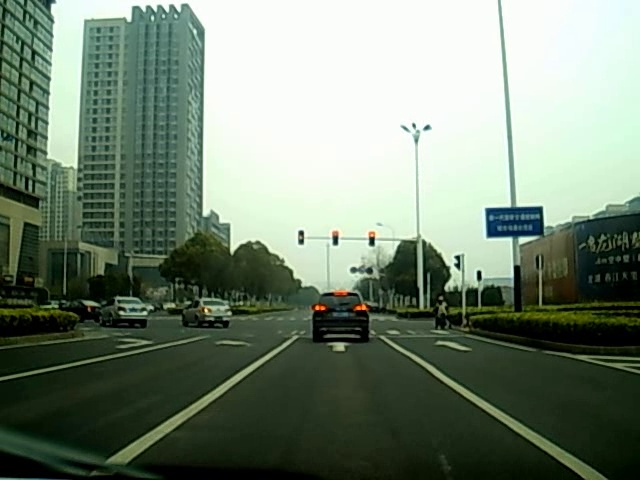Traffic_Light_stop: (331, 230, 338, 247), (368, 231, 375, 246)
